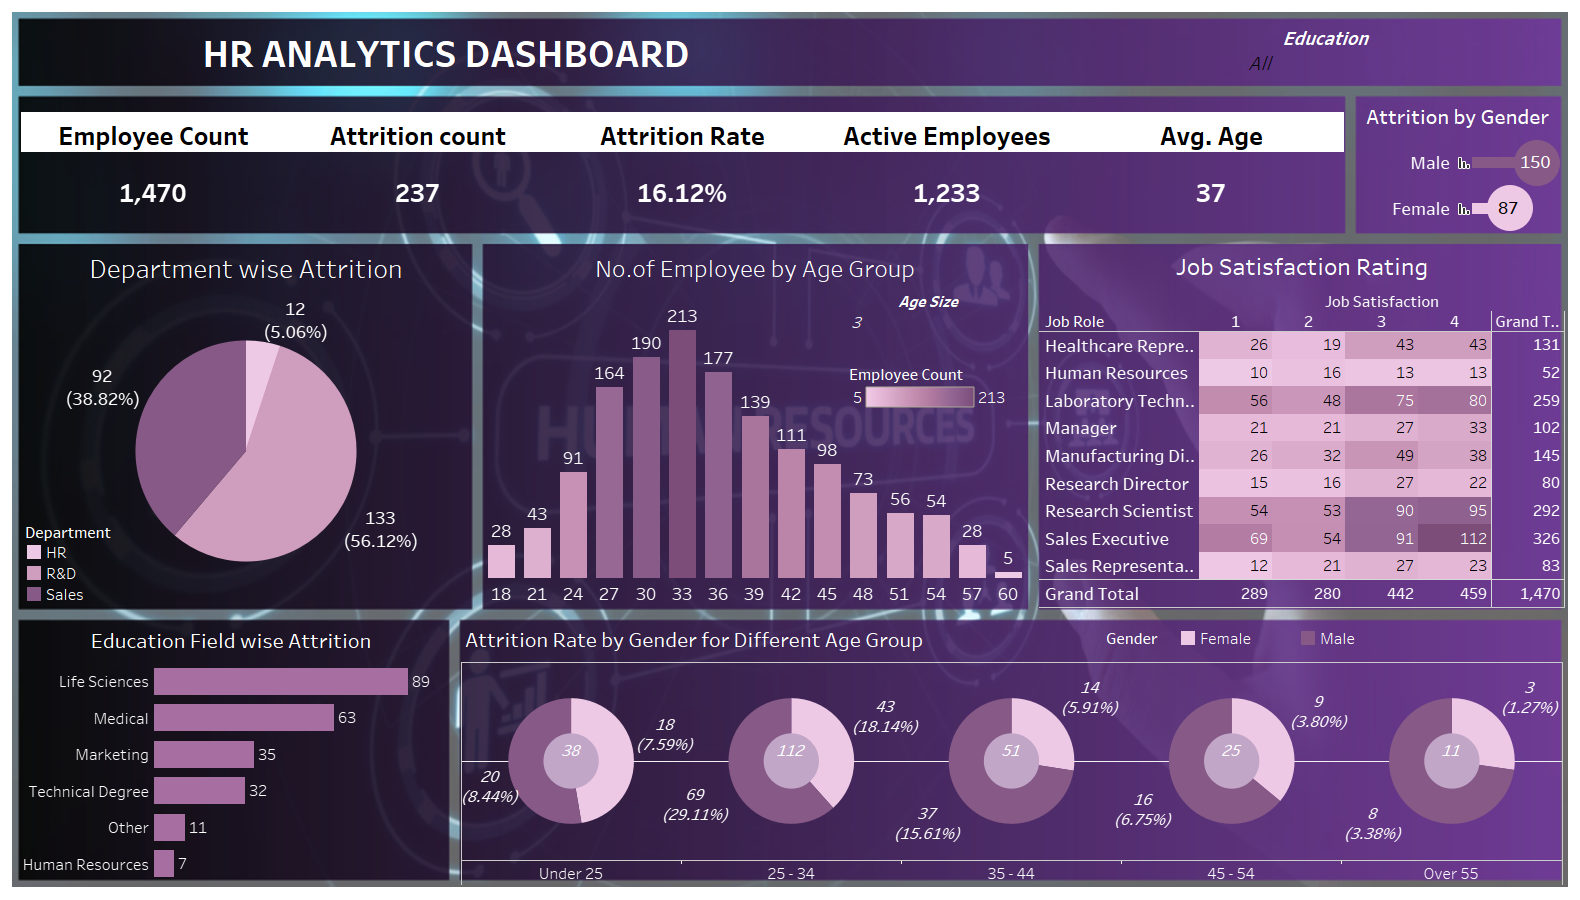

The dashboard page shown, as its layout file describes it:
{"tool":"tableau","page":{"name":"HR Analytics Dashboard","canvas":[1580,900],"ordinal":0},"visuals":[{"type":"image","param":"D:/PERSONAL/Data Analytics Project/HR Dashboard/HR background.pptx.png","box":[8,8,1564,884]},{"type":"text","box":[21,21,850,61]},{"type":"filter","title":"Department wise Attrition","param":"[federated.036a0m40bz4jzo16mdw341k371sm].[none:Education:nk]","box":[1246,24,160,58]},{"type":"worksheet","title":"Attrition by Gender","mark":"Automatic","rows":["Gender"],"cols":["Calculation_127226689492291584","Calculation_127226689492291584"],"box":[1352,96,211,135]},{"type":"worksheet","title":"KPI","mark":"Automatic","box":[21,97,1323,135]},{"type":"worksheet","title":"Job Satisfaction Rating","mark":"Square","rows":["Job Role"],"cols":["Job Satisfaction"],"box":[1039,244,526,364]},{"type":"worksheet","title":"Department wise Attrition","mark":"Pie","box":[20,245,452,362]},{"type":"worksheet","title":"No.of Employee by Age Group","mark":"Automatic","rows":["Employee Count"],"cols":["Age (bin)"],"box":[483,246,544,360]},{"type":"parameter","param":"[Parameters].[Parameter 1]","box":[849,290,160,71]},{"type":"legend","title":"No.of Employee by Age Group","param":"[federated.036a0m40bz4jzo16mdw341k371sm].[sum:Employee Count:qk]","box":[849,360,161,61]},{"type":"legend","title":"Department wise Attrition","param":"[federated.036a0m40bz4jzo16mdw341k371sm].[none:Department:nk]","box":[24,520,140,85]},{"type":"worksheet","title":"Attrition Rate by Gender for Different Age Group","mark":"Pie","rows":["Calculation_182677260195667969","Calculation_182677260195667969"],"cols":["CF_age band"],"box":[461,619,1102,267]},{"type":"worksheet","title":"Education Field wise Attrition","mark":"Automatic","rows":["Education Field"],"cols":["Calculation_127226689492291584"],"box":[14,620,434,262]},{"type":"legend","title":"Attrition Rate by Gender for Different Age Group","param":"[federated.036a0m40bz4jzo16mdw341k371sm].[none:Gender:nk]","box":[1106,628,405,40]}]}

Visuals, with their boxes in screenshot pixels (x1, y1, x2, y2), scaled from the page's 1580x900 canvas onto the 1580x900 screenshot:
image: [8, 8, 1572, 892]
text: [21, 21, 871, 82]
"Department wise Attrition" filter: [1246, 24, 1406, 82]
"Attrition by Gender" worksheet: [1352, 96, 1563, 231]
"KPI" worksheet: [21, 97, 1344, 232]
"Job Satisfaction Rating" worksheet (Square marks): [1039, 244, 1565, 608]
"Department wise Attrition" worksheet (Pie marks): [20, 245, 472, 607]
"No.of Employee by Age Group" worksheet: [483, 246, 1027, 606]
parameter: [849, 290, 1009, 361]
"No.of Employee by Age Group" legend: [849, 360, 1010, 421]
"Department wise Attrition" legend: [24, 520, 164, 605]
"Attrition Rate by Gender for Different Age Group" worksheet (Pie marks): [461, 619, 1563, 886]
"Education Field wise Attrition" worksheet: [14, 620, 448, 882]
"Attrition Rate by Gender for Different Age Group" legend: [1106, 628, 1511, 668]
